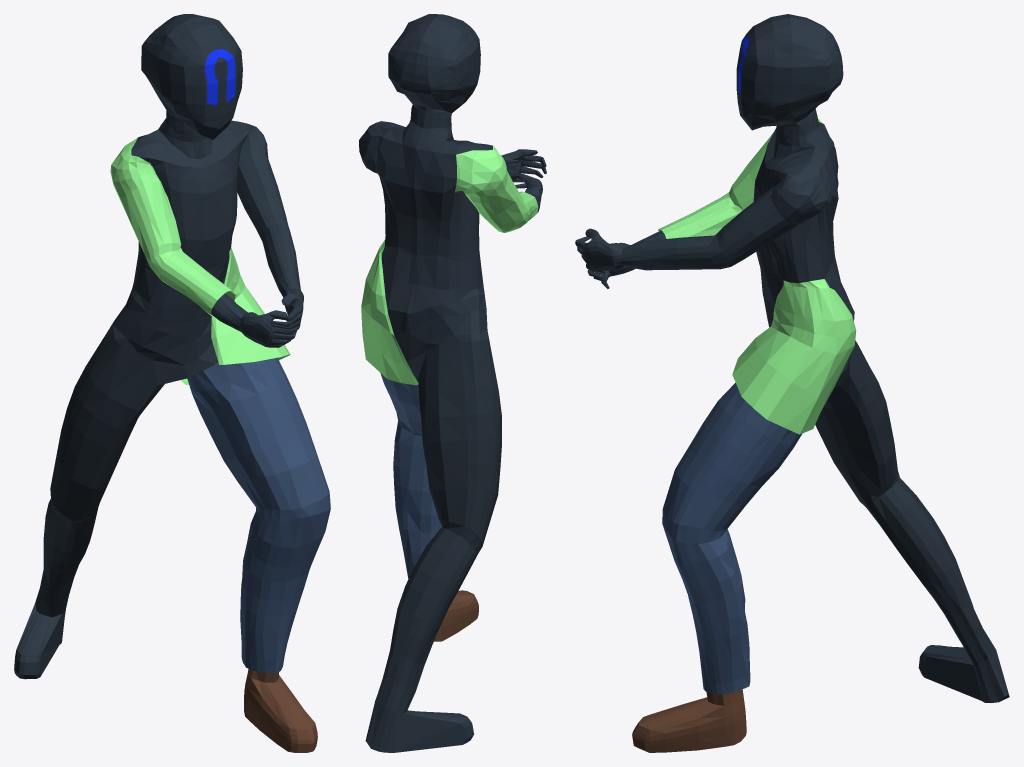
Rendered from Mar_WL_000031.obj.
3 renders of one model, left to right at view 1: azimuth 30°, elevation 25°; view 2: azimuth 150°, elevation 25°; view 3: azimuth 270°, elevation 25°, orthographic. The views are drawn at different scales.
Parts seen in each view (by area): view 1: Cube.000_Cube.001; view 2: Cube.000_Cube.001; view 3: Cube.000_Cube.001.
Part boxes in pixels (x1,y1,x2,y2): Cube.000_Cube.001: (14,14,330,752); Cube.000_Cube.001: (359,14,546,752); Cube.000_Cube.001: (575,14,1009,752).
Bounding box in the file's own units: 1.09 × 3.74 × 2.07.
